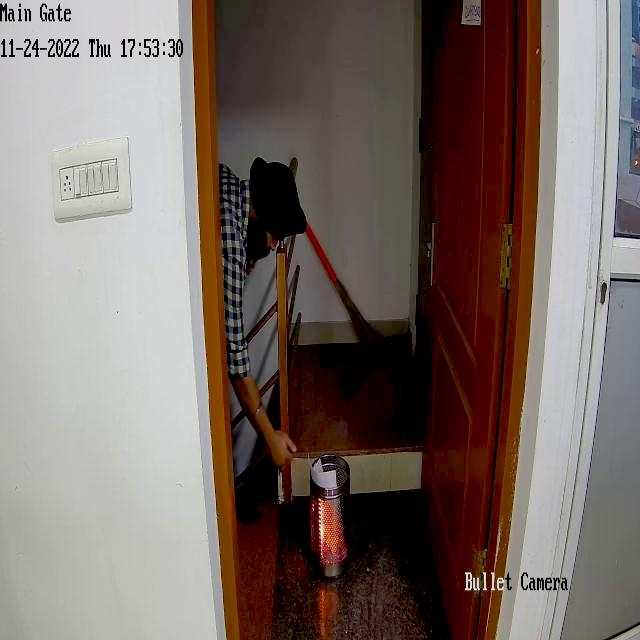fire: (317, 504, 340, 566)
smoke: (210, 3, 334, 127), (310, 100, 352, 224), (318, 303, 342, 399), (352, 362, 380, 438), (323, 406, 356, 446)
